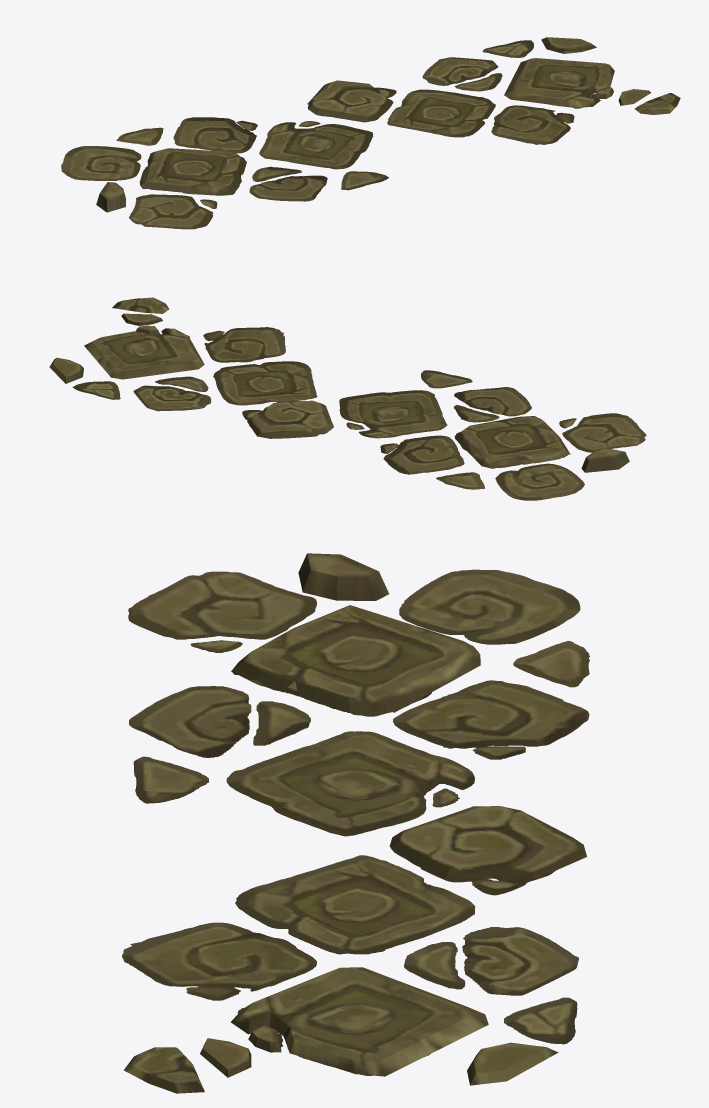
Rendered from pavers_straight_02.fbx.
The picture shows the model from 3 angles, top to bottom: view 1: azimuth 30°, elevation 25°; view 2: azimuth 150°, elevation 25°; view 3: azimuth 270°, elevation 25°; orthographic projection. The views are drawn at different scales.
Parts seen in each view (by area): view 1: obj0.117; view 2: obj0.117; view 3: obj0.117.
Boxes of the visible parts, x1,y1,x2,y2 form: obj0.117: (61, 37, 680, 229); obj0.117: (49, 297, 646, 500); obj0.117: (122, 553, 589, 1093).
Size of the model in its own units: 10.32 by 0.1954 by 5.01.
